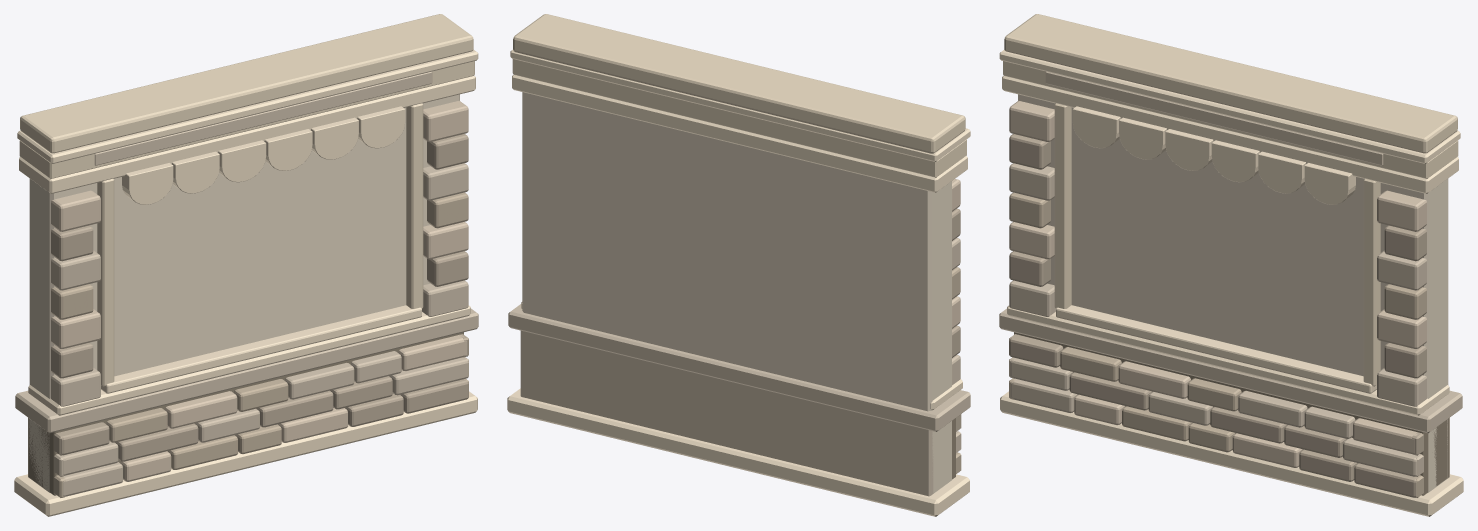
File: wsc-arch-003-town-facade-kit.glb
3 views of the same model, side by side, from view 1: azimuth 30°, elevation 25°; view 2: azimuth 150°, elevation 25°; view 3: azimuth 330°, elevation 25° (orthographic).
Visible parts, largest first — view 1: WSC-ARCH-003 / Pale cream plaster field, WSC-ARCH-003 / Polished cream molding, WSC-ARCH-003 / Warm cream limestone, WSC-ARCH-003 / Limestone ashlar 1, WSC-ARCH-003 / Limestone ashlar 2, WSC-ARCH-003 / Limestone ashlar 3, WSC-ARCH-003 / Limestone ashlar 0, WSC-ARCH-003 / Sand grey mortar; view 2: WSC-ARCH-003 / Pale cream plaster field, WSC-ARCH-003 / Limestone ashlar 1, WSC-ARCH-003 / Warm cream limestone, WSC-ARCH-003 / Polished cream molding, WSC-ARCH-003 / Limestone ashlar 2, WSC-ARCH-003 / Limestone ashlar 3; view 3: WSC-ARCH-003 / Pale cream plaster field, WSC-ARCH-003 / Polished cream molding, WSC-ARCH-003 / Warm cream limestone, WSC-ARCH-003 / Limestone ashlar 1, WSC-ARCH-003 / Limestone ashlar 2, WSC-ARCH-003 / Limestone ashlar 3, WSC-ARCH-003 / Limestone ashlar 0, WSC-ARCH-003 / Sand grey mortar.
Boxes of the visible parts, x1,y1,x2,y2 form: WSC-ARCH-003 / Pale cream plaster field: (29,94,459,492); WSC-ARCH-003 / Polished cream molding: (14,50,478,516); WSC-ARCH-003 / Warm cream limestone: (19,14,474,386); WSC-ARCH-003 / Limestone ashlar 1: (15,71,478,497); WSC-ARCH-003 / Limestone ashlar 2: (51,134,468,461); WSC-ARCH-003 / Limestone ashlar 3: (51,100,468,481); WSC-ARCH-003 / Limestone ashlar 0: (51,192,468,497); WSC-ARCH-003 / Sand grey mortar: (29,332,463,495); WSC-ARCH-003 / Pale cream plaster field: (522,92,951,493); WSC-ARCH-003 / Limestone ashlar 1: (508,238,970,496); WSC-ARCH-003 / Warm cream limestone: (512,14,966,177); WSC-ARCH-003 / Polished cream molding: (507,49,970,516); WSC-ARCH-003 / Limestone ashlar 2: (952,208,961,431); WSC-ARCH-003 / Limestone ashlar 3: (952,179,960,328); WSC-ARCH-003 / Pale cream plaster field: (1018,94,1448,492); WSC-ARCH-003 / Polished cream molding: (999,50,1463,516); WSC-ARCH-003 / Warm cream limestone: (1003,14,1458,386); WSC-ARCH-003 / Limestone ashlar 1: (999,71,1462,478); WSC-ARCH-003 / Limestone ashlar 2: (1009,134,1426,497); WSC-ARCH-003 / Limestone ashlar 3: (1009,100,1426,467); WSC-ARCH-003 / Limestone ashlar 0: (1009,192,1426,497); WSC-ARCH-003 / Sand grey mortar: (1014,332,1448,495).
Size of the model in its own units: 3.75 by 3.13 by 0.579.
